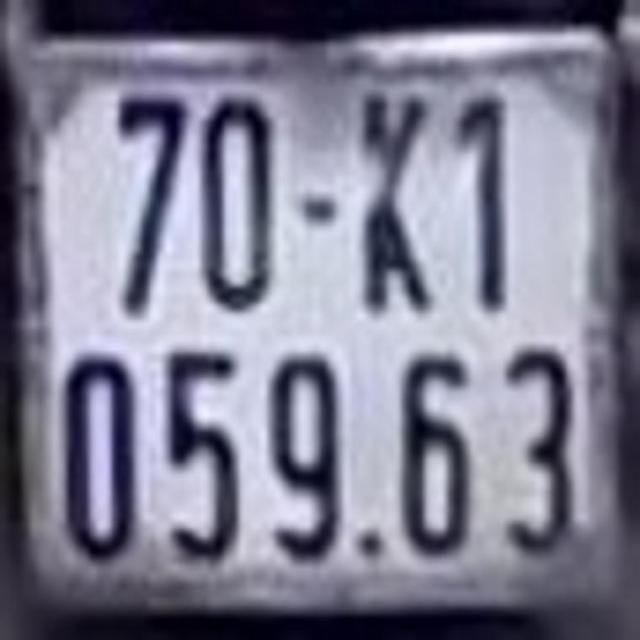0: (201, 97, 275, 314), (62, 350, 130, 558)
1: (462, 94, 518, 308)
3: (494, 340, 574, 562)
5: (166, 350, 248, 558)
6: (390, 350, 469, 546)
7: (100, 94, 191, 323)
9: (261, 347, 344, 560)
K: (356, 93, 447, 310)
